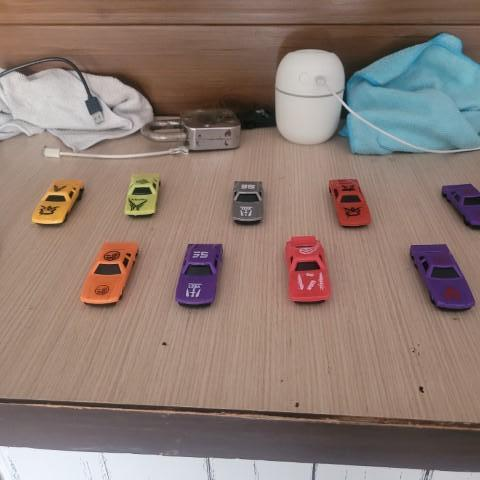car: (404, 241, 474, 310), (78, 239, 143, 305), (171, 241, 231, 307), (281, 231, 331, 301), (324, 176, 372, 228), (227, 176, 268, 225), (124, 171, 164, 217)
